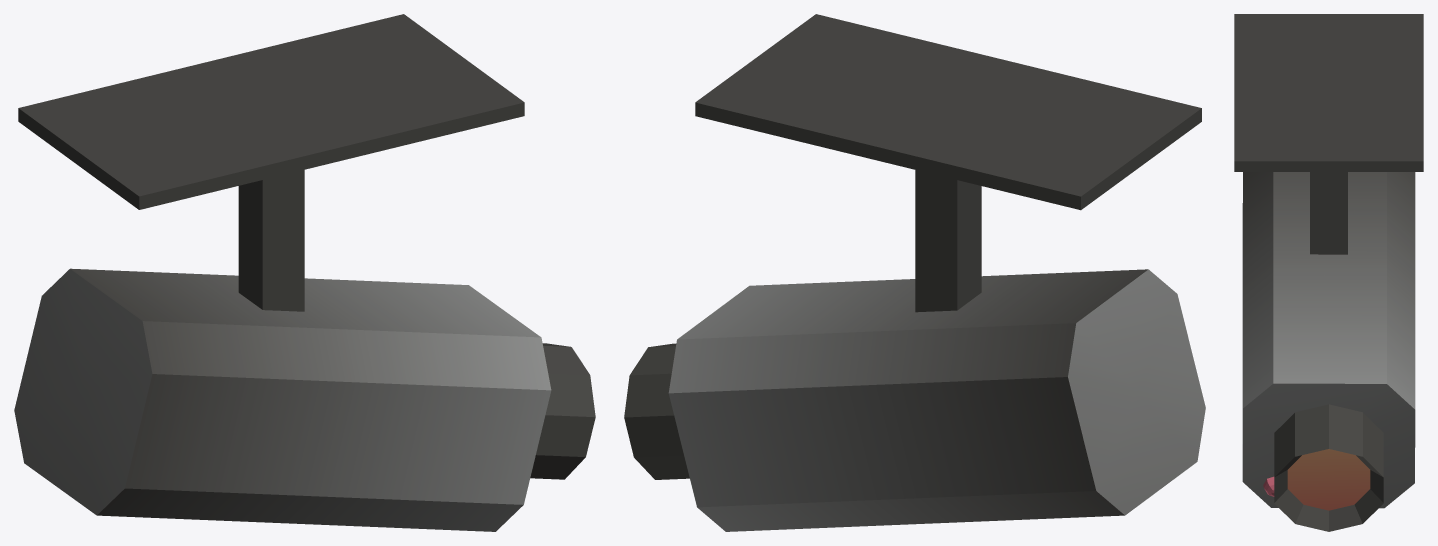
Rendered from Camera.fbx.
3 views of the same model, side by side, from view 1: azimuth 30°, elevation 25°; view 2: azimuth 150°, elevation 25°; view 3: azimuth 270°, elevation 25° (orthographic). The views are drawn at different scales.
Parts seen in each view (by area): view 1: pCylinder4; view 2: pCylinder4; view 3: pCylinder4.
Part boxes in pixels (x1,y1,x2,y2): pCylinder4: (14,14,595,531); pCylinder4: (624,14,1205,531); pCylinder4: (1234,14,1423,531).
Size of the model in its own units: 4.55 by 3.79 by 1.86.
Materials: 1 (1 with a texture image).
